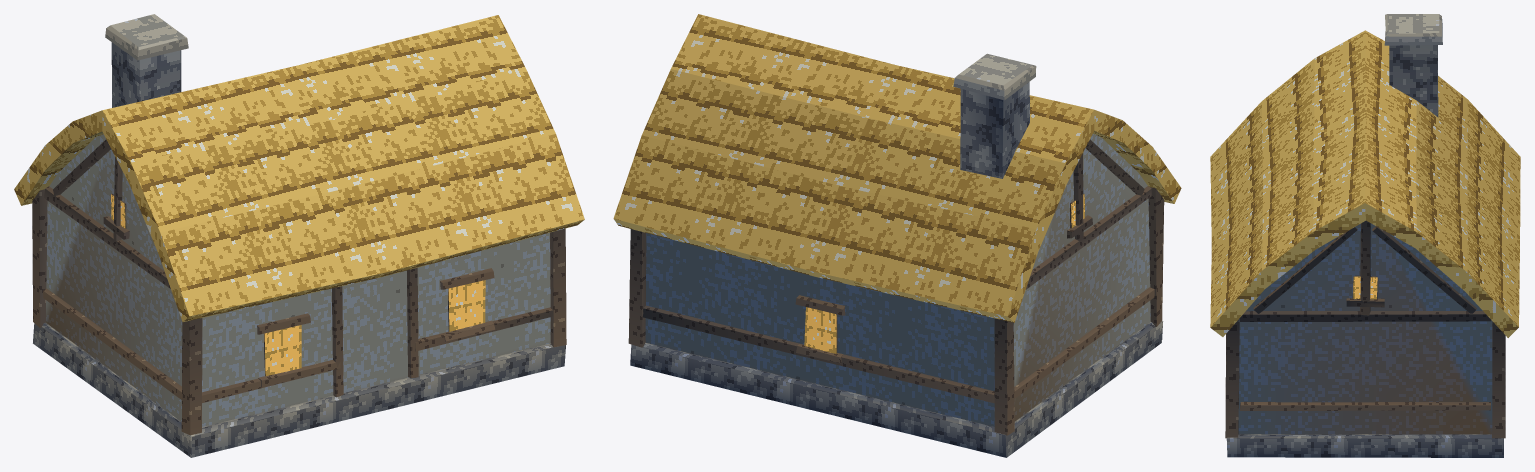
Rendered from vlg.cottage__doorway.glb.
3 renders of one model, left to right at view 1: azimuth 30°, elevation 25°; view 2: azimuth 150°, elevation 25°; view 3: azimuth 270°, elevation 25°, orthographic. The views are drawn at different scales.
Visible parts, largest first — view 1: kit_roof, kit_walls, kit_stonework, kit_frame, kit_fittings; view 2: kit_roof, kit_walls, kit_stonework, kit_frame, kit_fittings; view 3: kit_roof, kit_walls, kit_frame, kit_stonework, kit_fittings.
Boxes of the visible parts, x1,y1,x2,y2 form: kit_roof: (14, 15, 584, 322); kit_walls: (46, 134, 550, 426); kit_stonework: (33, 14, 565, 457); kit_frame: (32, 139, 566, 435); kit_fittings: (103, 193, 495, 387); kit_roof: (613, 14, 1181, 322); kit_walls: (645, 134, 1150, 426); kit_stonework: (630, 53, 1163, 457); kit_frame: (628, 139, 1164, 435); kit_fittings: (795, 193, 1092, 363); kit_roof: (1210, 30, 1520, 337); kit_walls: (1238, 223, 1492, 434); kit_frame: (1225, 220, 1505, 438); kit_stonework: (1226, 14, 1503, 457); kit_fittings: (1346, 276, 1384, 307).
Size of the model in its own units: 7.57 by 6.12 by 5.76.
6 materials, 6 textured.
